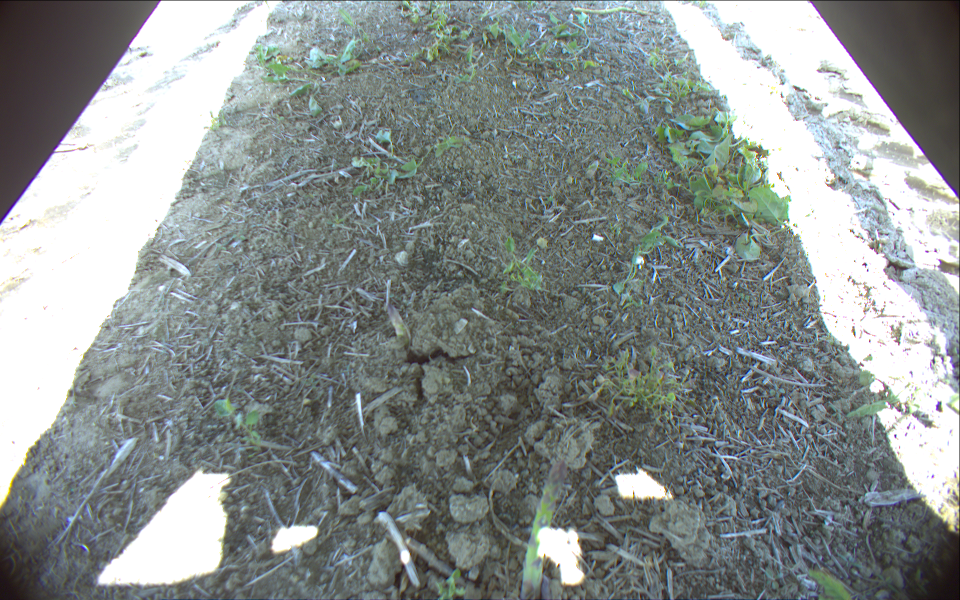aspa: (517, 455, 571, 600), (571, 7, 649, 16)
